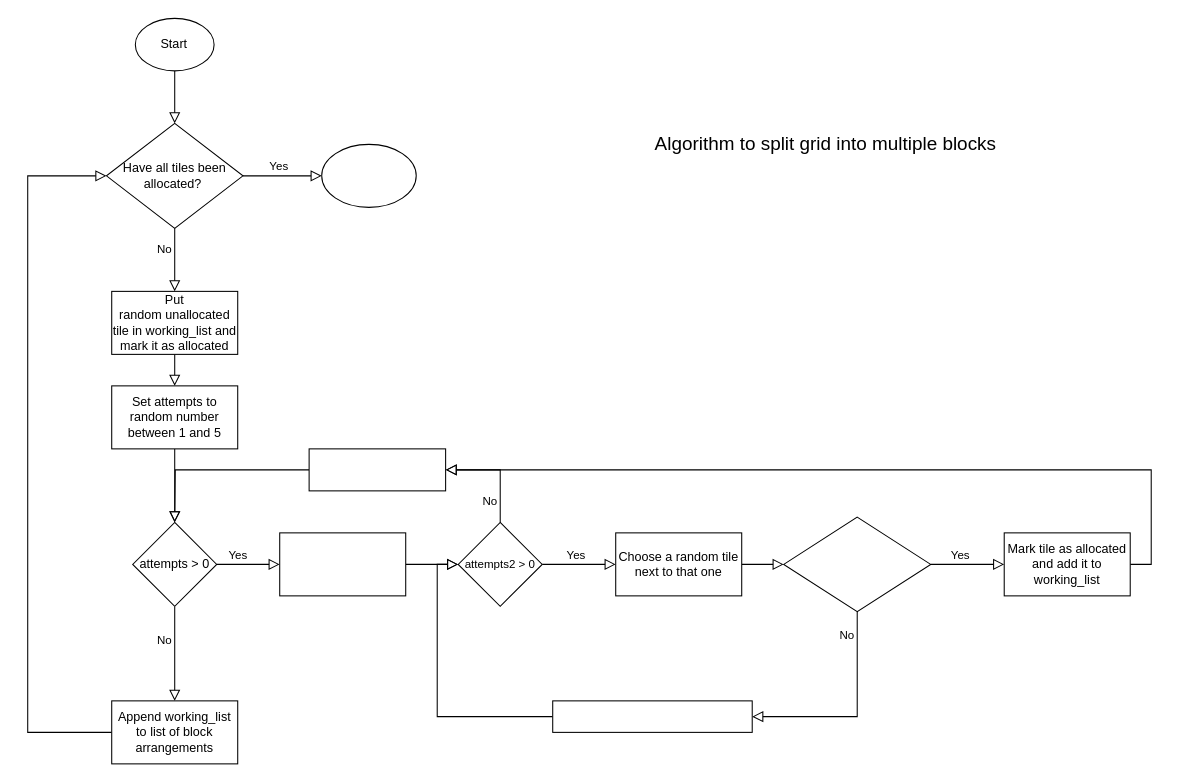
The diagram is 1180 pixels wide and 782 high, and some of its shapes have lost their labels. Here are the shapes that lost their labels. From the top down, the centre of each, then its label:
At pixel 368 175: "End".
At pixel 377 469: "attempts = attempts -1".
At pixel 342 564: "Choose random block from working list, attempts2 = 20".
At pixel 857 564: "Is that tile valid and unallocated?".
At pixel 652 716: "attempts2 = attempts2 -1".
